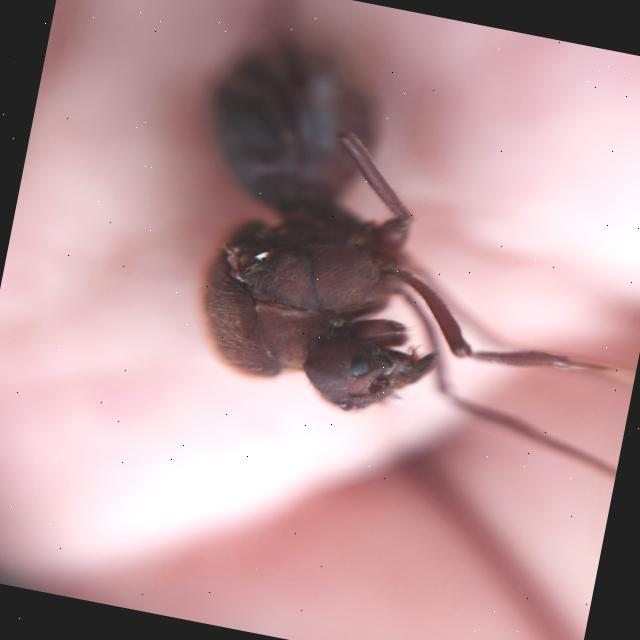Dead-Female-Dealate: (144, 14, 640, 478)
